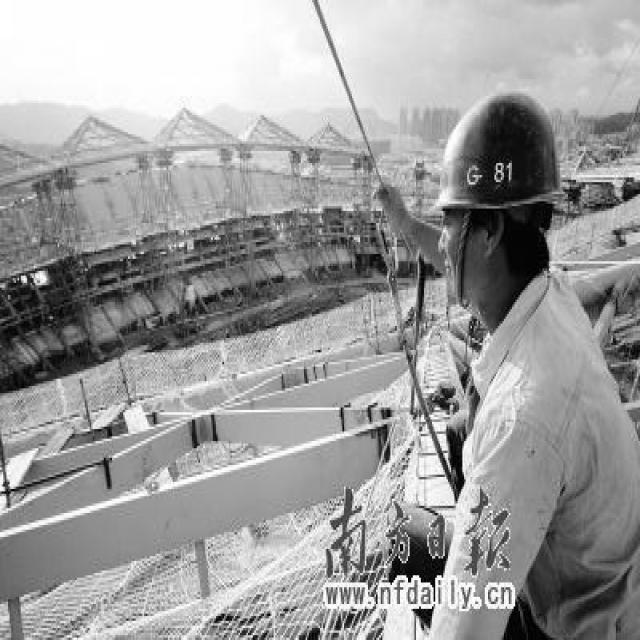head: (424, 62, 573, 328)
